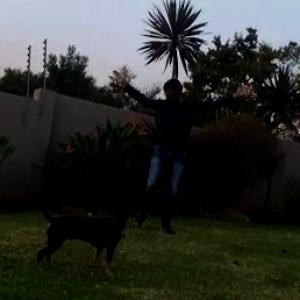takeoff: (118, 60, 266, 230)
